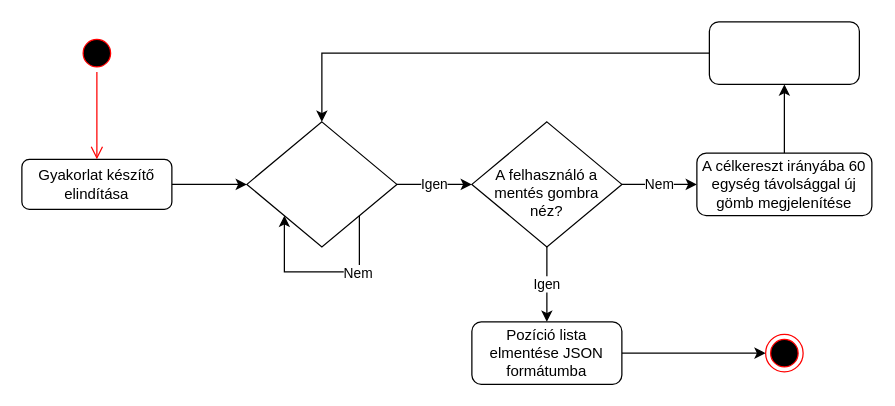
Some shapes in this 895 by 406 pixel diagram are drawn without their labels. Each missing label, with the box of its shape:
A felhasználó kattint?: (246, 121, 397, 247)
Gömb pozíciójának mentése listába: (708, 21, 859, 84)
